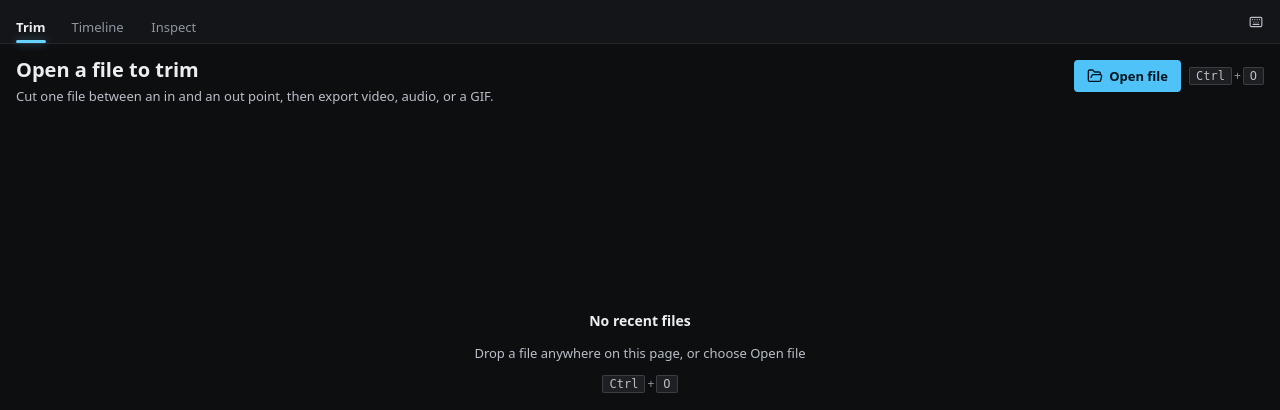
Test case: the empty editor › names what each mode does as the switch changes
Click the tab "Timeline" at [98, 27], box x1=58 y1=11 x2=138 y2=43
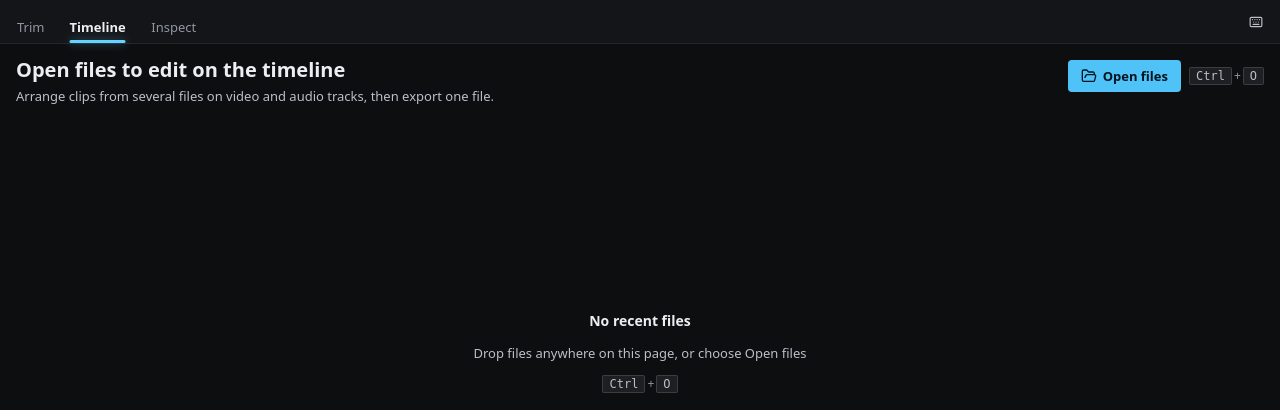
Expected: the heading "Open files to edit on the timeline" is shown, x1=16 y1=56 x2=345 y2=83
Expected: the button "Open files" is shown, x1=1068 y1=60 x2=1181 y2=92
Click the tab "Inspect" at [174, 27], box x1=138 y1=11 x2=210 y2=43
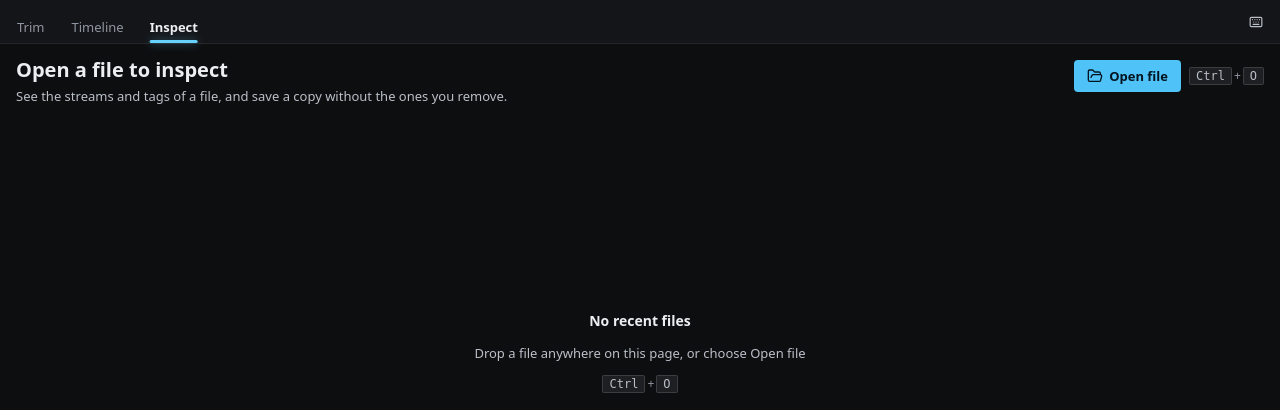
Expected: the heading "Open a file to inspect" is shown, x1=16 y1=56 x2=228 y2=83
